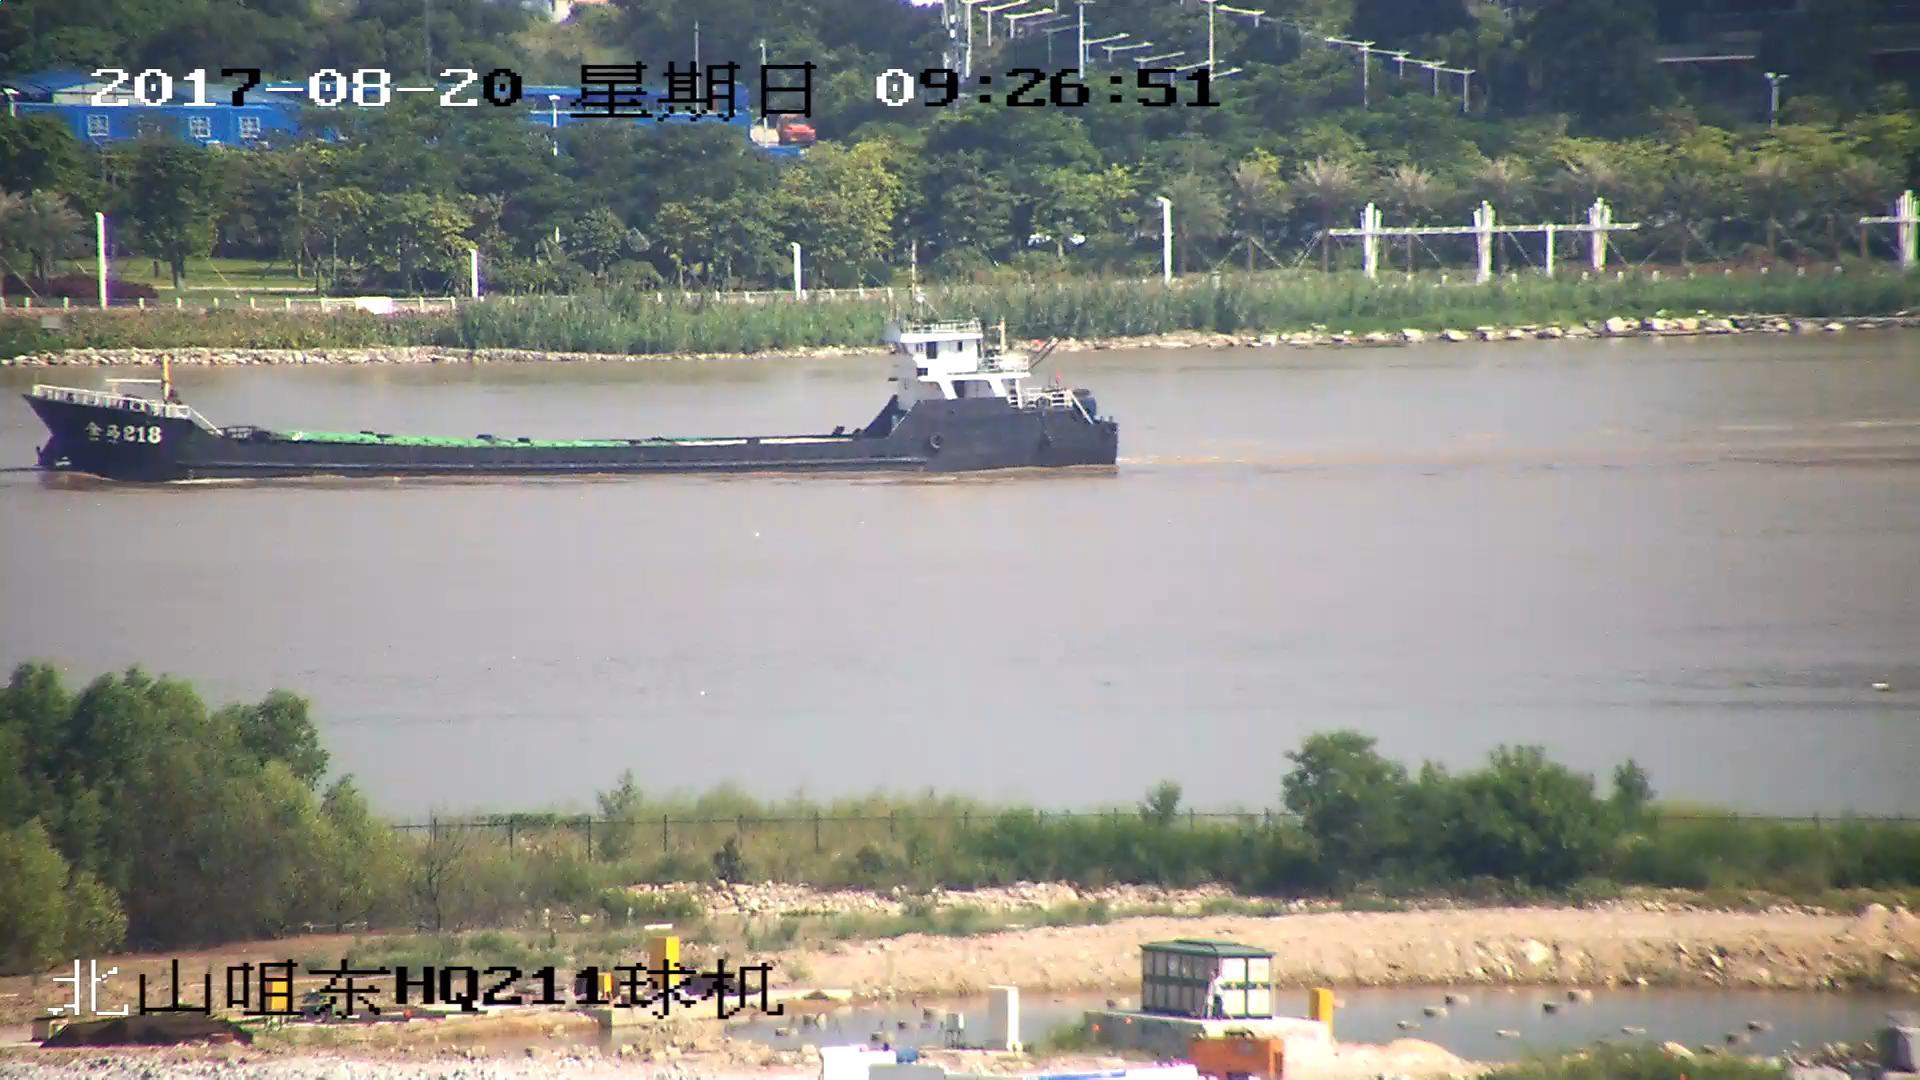Ship: (32, 311, 1118, 481)
